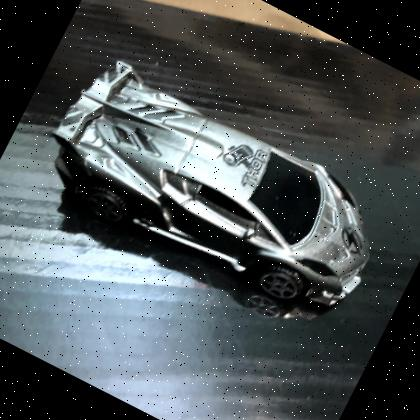Car: (53, 62, 370, 311)
